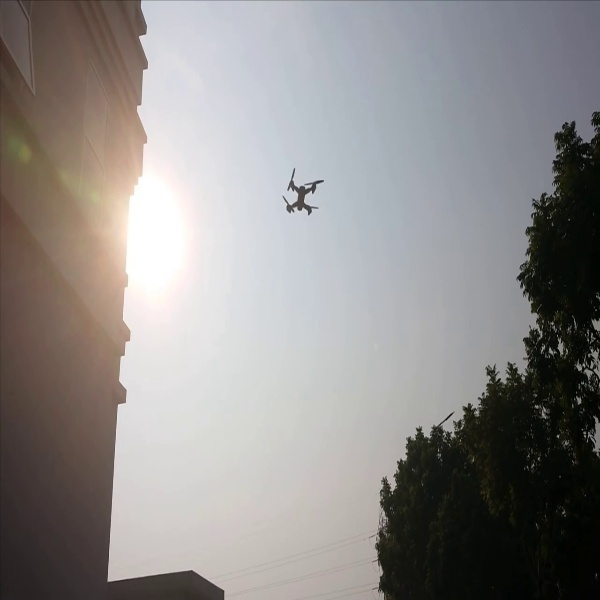drone: (274, 166, 330, 220)
